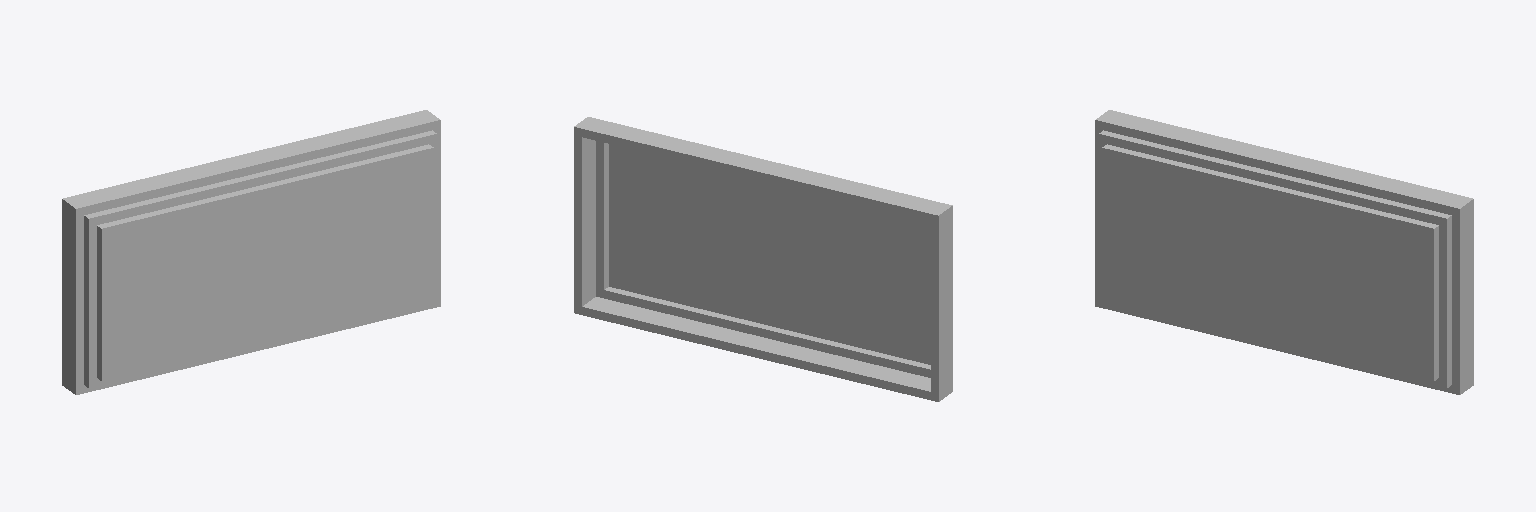
File: key.obj
The picture shows the model from 3 angles: view 1: azimuth 30°, elevation 25°; view 2: azimuth 150°, elevation 25°; view 3: azimuth 330°, elevation 25°; orthographic projection.
Size of the model in its own units: 45 by 22 by 5.